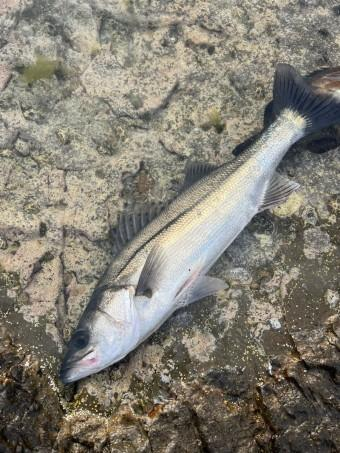fish: (62, 64, 339, 382)
